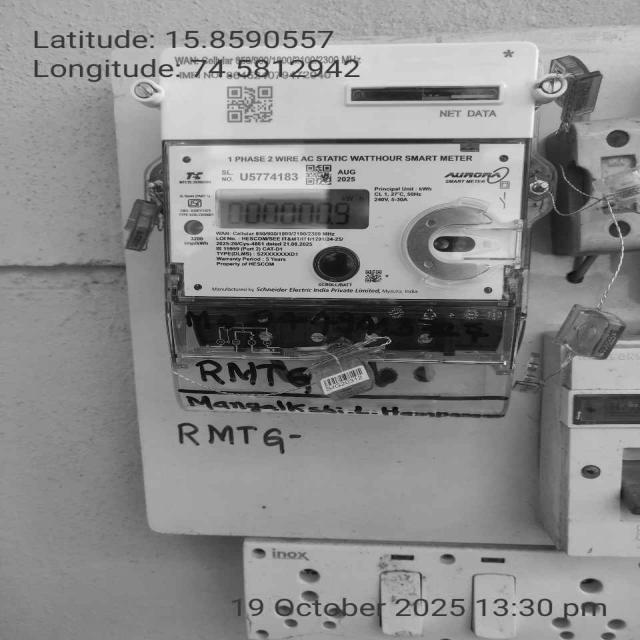meter: (160, 38, 530, 302)
